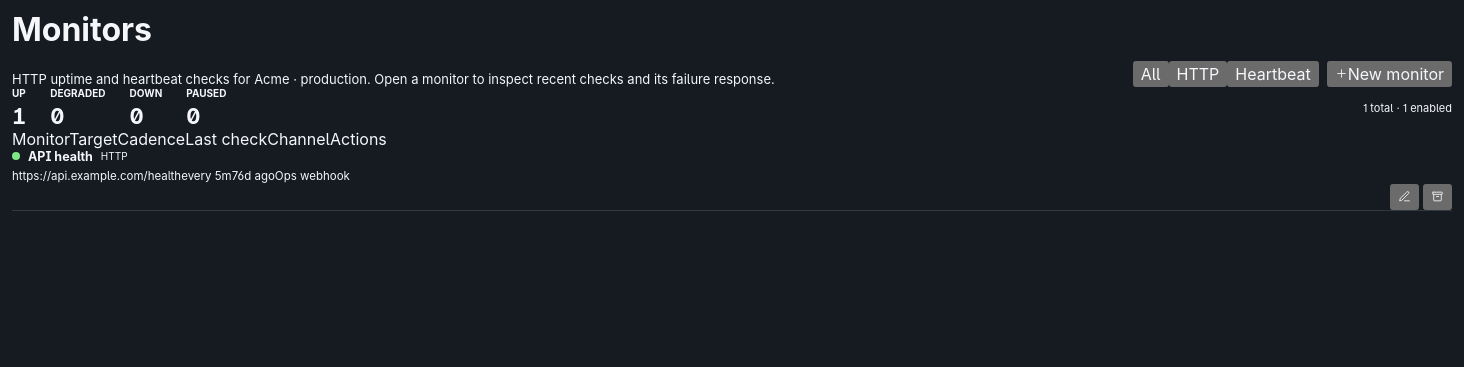
it: distinguishes an empty kind filter from no configured monitors and clears it
Check: the text "API health" is shown, box [28,149,93,164]
Click the button "Heartbeat". click: (1273, 74)
box: [1227,61,1319,87]
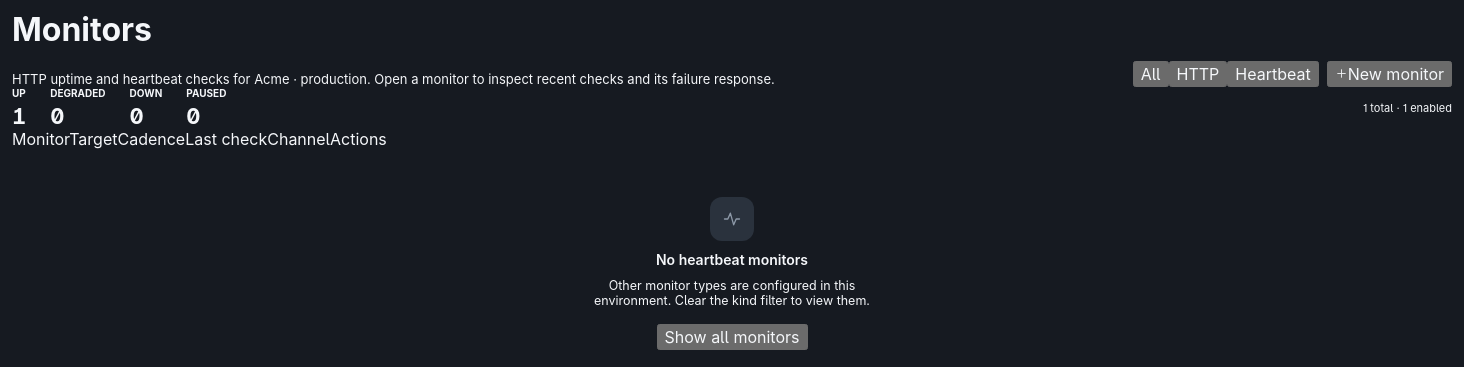
Check: the text "No heartbeat monitors" is shown, box [656,251,808,268]
Click the button "Show all monitors". click: (732, 337)
box: [656,324,808,350]
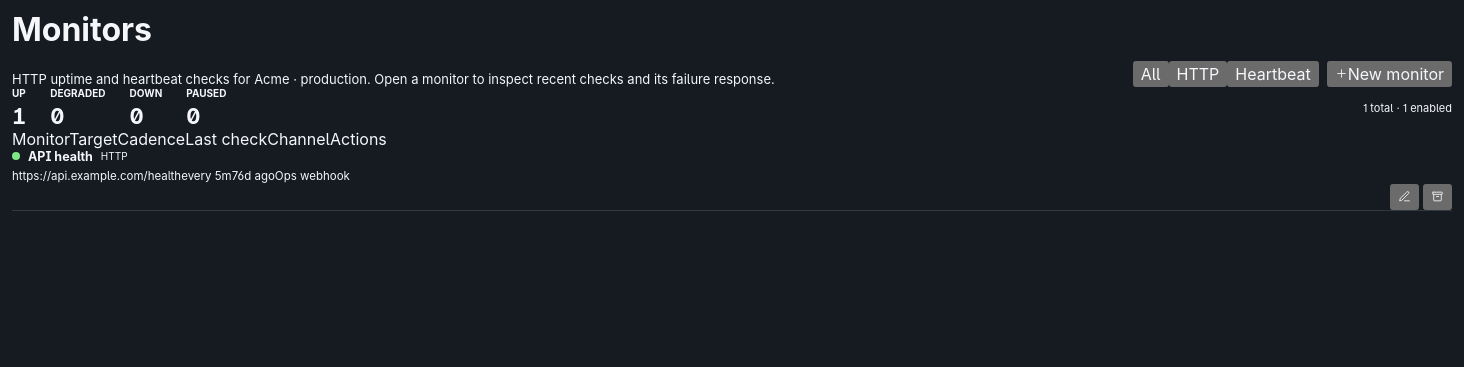
Check: the text "API health" is shown, box [28,149,93,164]
Check: the text "No heartbeat monitors" is gone
